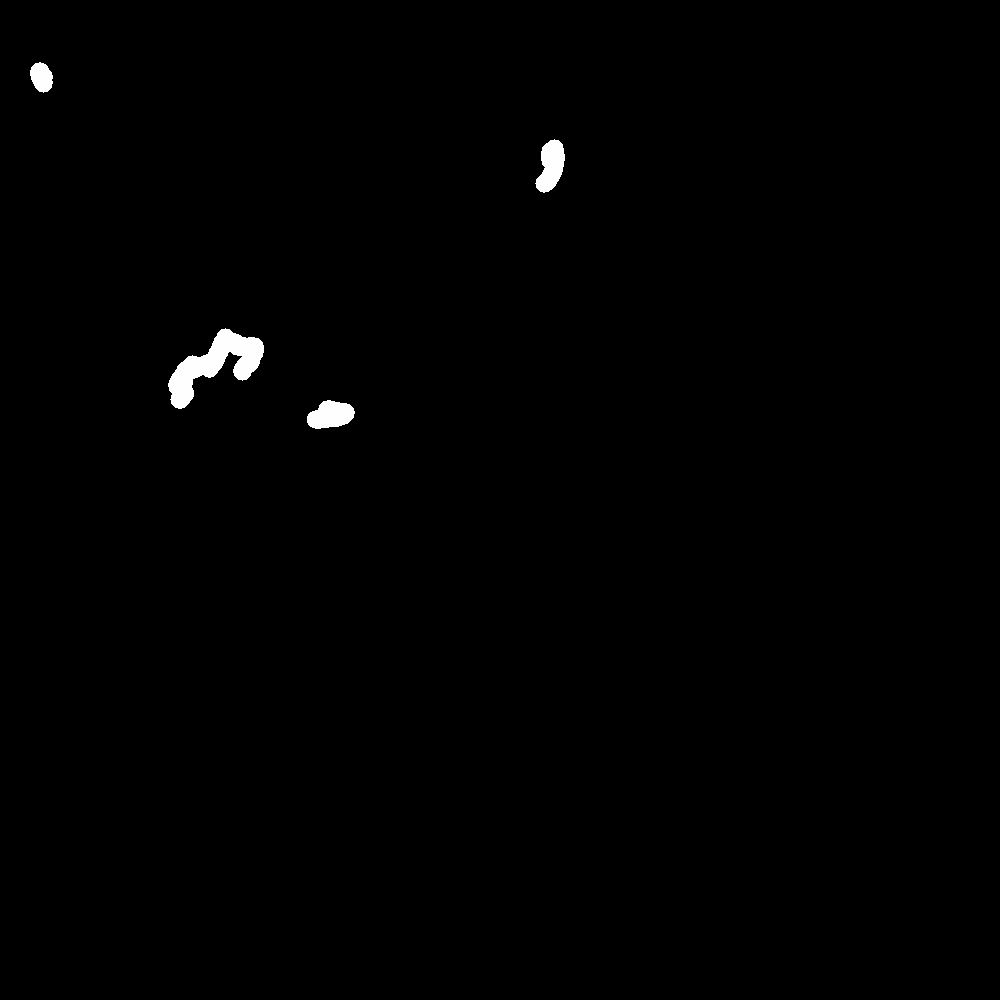illegal: (154, 353, 222, 425)
